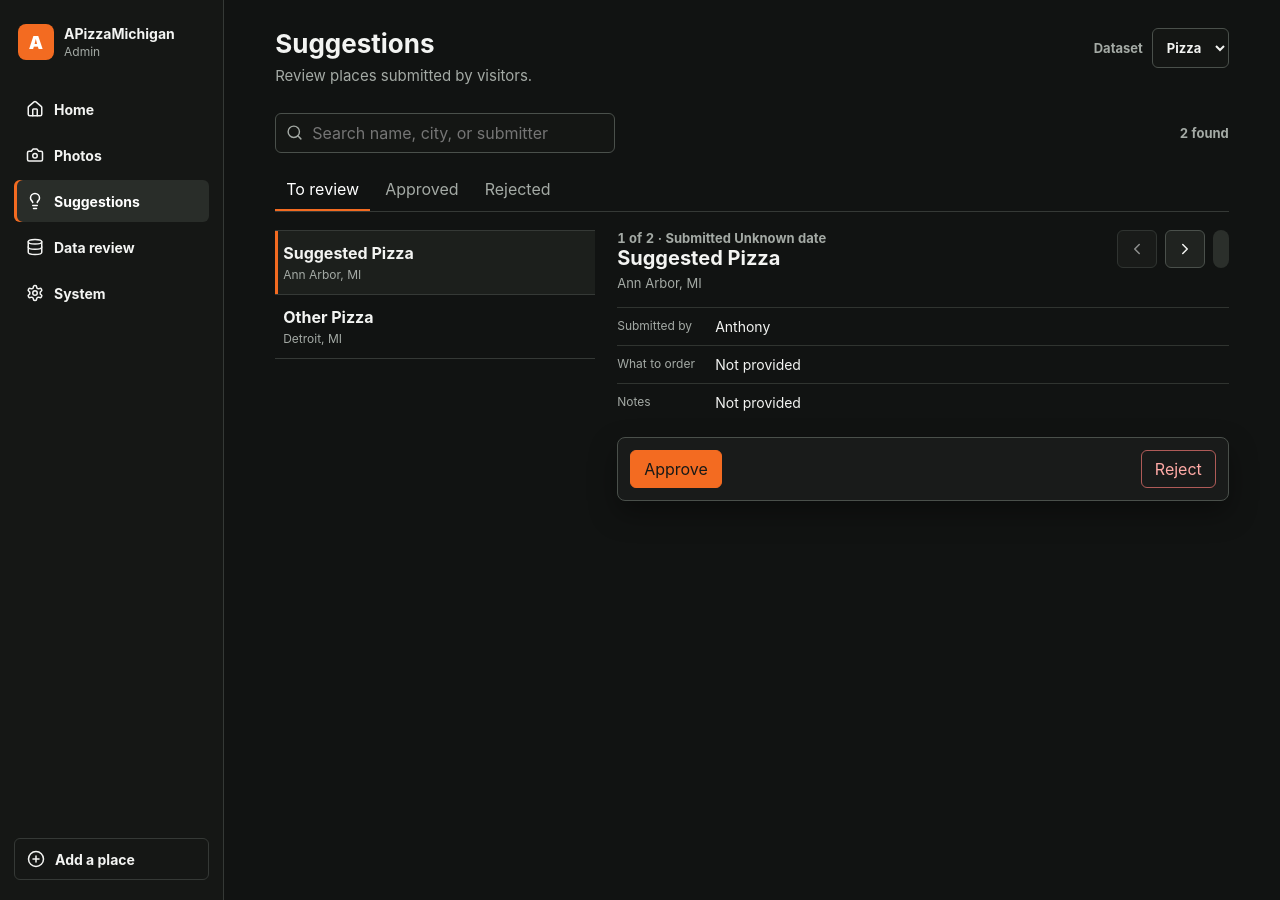
AdminReviewsPage › lets admins narrow the suggestion inbox before choosing a record
The image size is (1280, 900).
expect the heading "Suggested Pizza" is shown: met, box 617,246 -> 780,270
Type "Detroit" into the search field named "Find suggestion" at (445, 133), box 275,113 -> 615,153
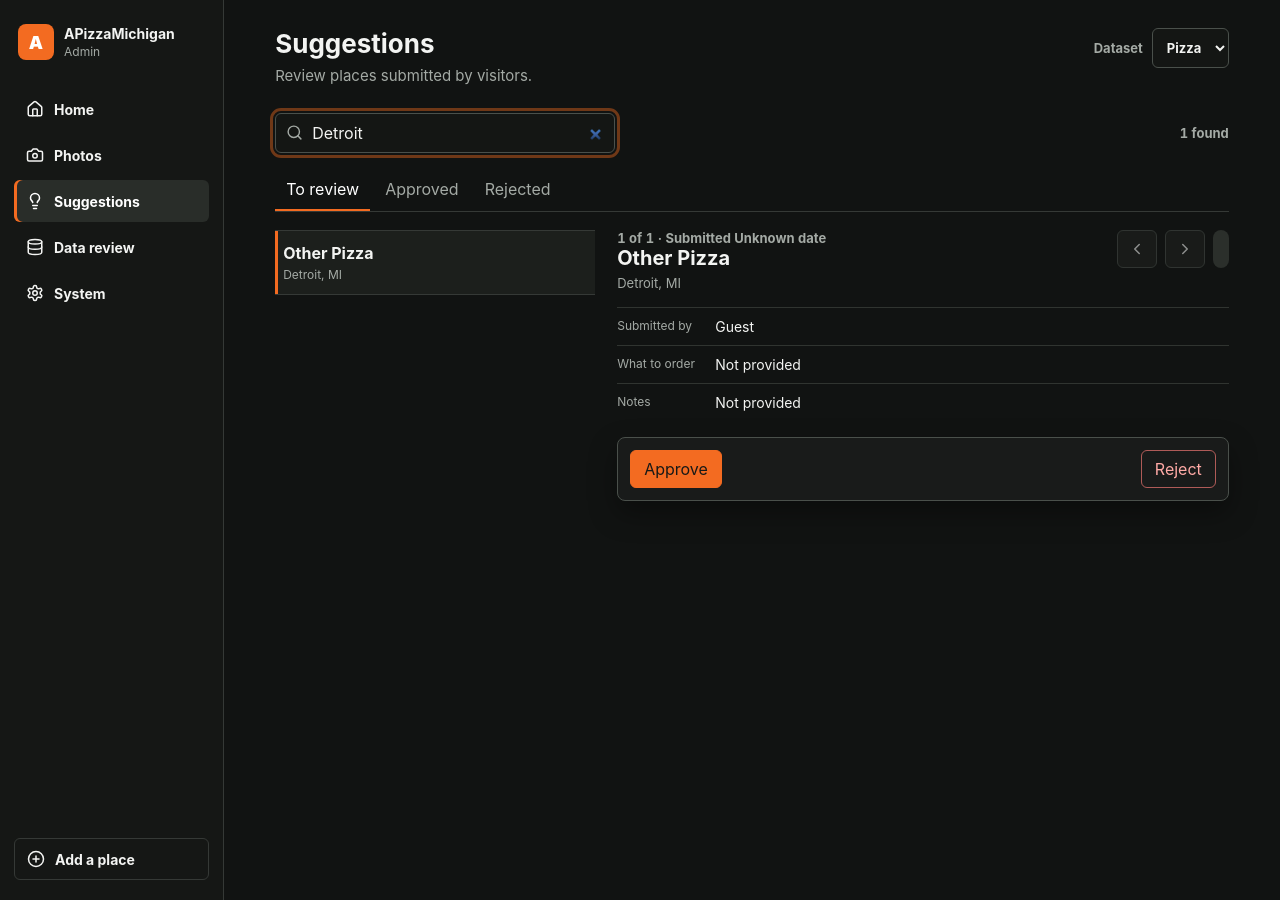
expect the heading "Other Pizza" is shown: met, box 617,246 -> 730,270
expect the button "Suggested Pizza" is gone: met
